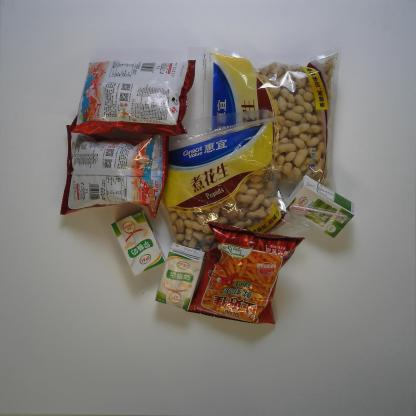Dried Food: (156, 109, 310, 264), (186, 46, 342, 193)
Milk: (284, 174, 356, 239), (110, 208, 166, 277), (154, 242, 206, 311)
Puffed Food: (185, 221, 305, 325), (60, 124, 170, 219), (68, 59, 196, 137)
